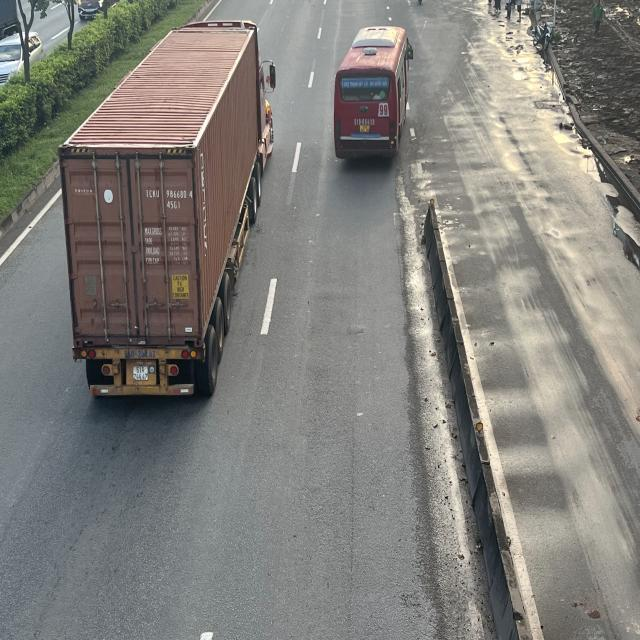coach: (334, 26, 412, 163)
container: (59, 18, 275, 398)
